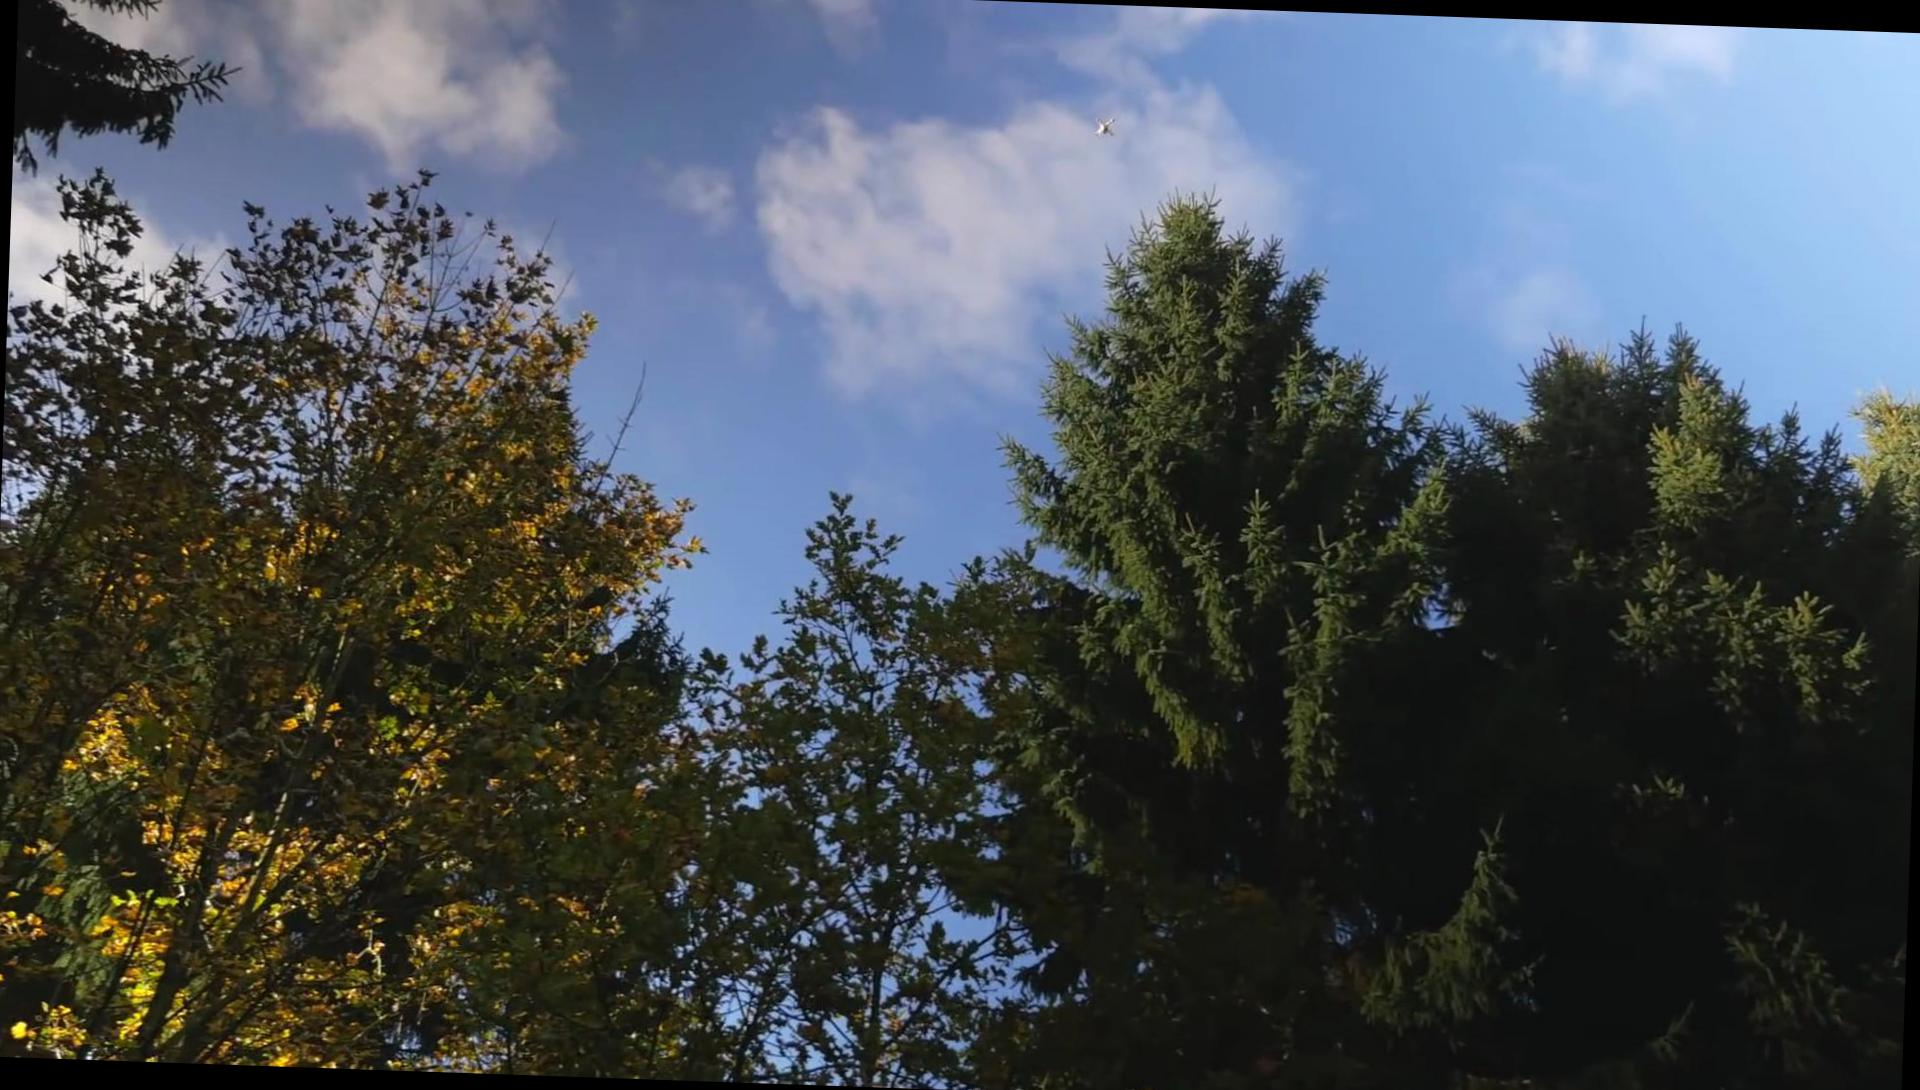drone: (1089, 115, 1118, 140)
